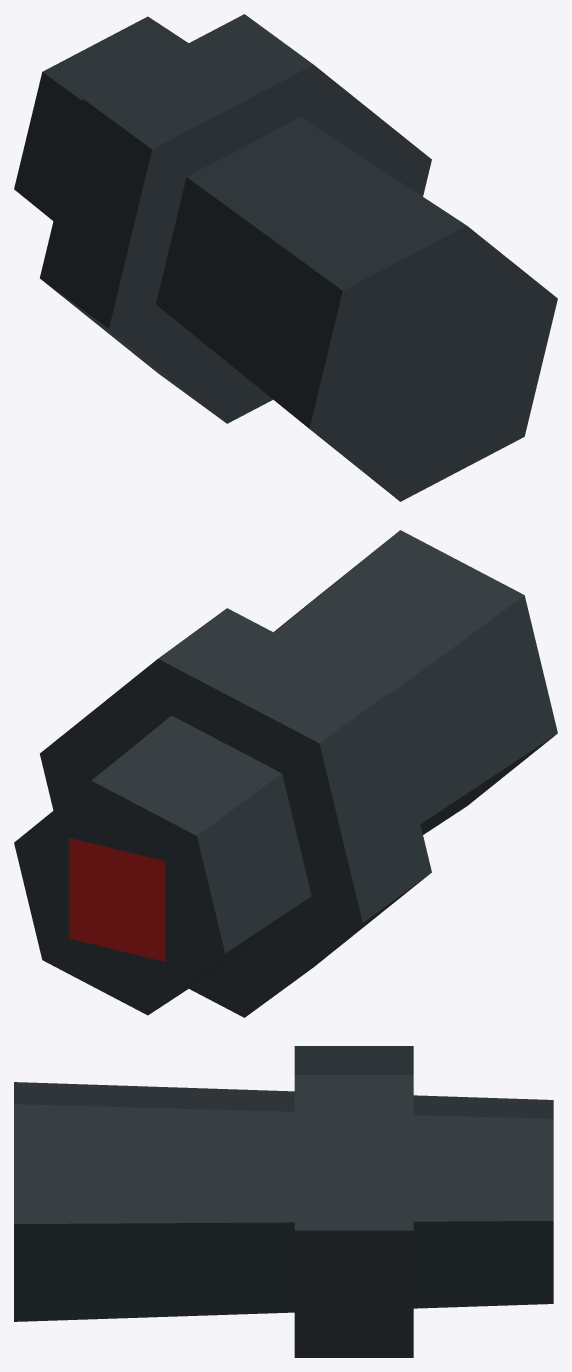
The picture shows the model from 3 angles, top to bottom: view 1: azimuth 30°, elevation 25°; view 2: azimuth 150°, elevation 25°; view 3: azimuth 270°, elevation 25°; orthographic projection. The views are drawn at different scales.
Parts seen in each view (by area): view 1: mount; view 2: mount; view 3: mount.
Part boxes in pixels (x1=…): mount: x1=14, y1=14, x2=557, y2=501; mount: x1=14, y1=530, x2=557, y2=1017; mount: x1=14, y1=1046, x2=553, y2=1357.
Bounding box in the file's own units: 2.29 × 2.29 × 3.88.
